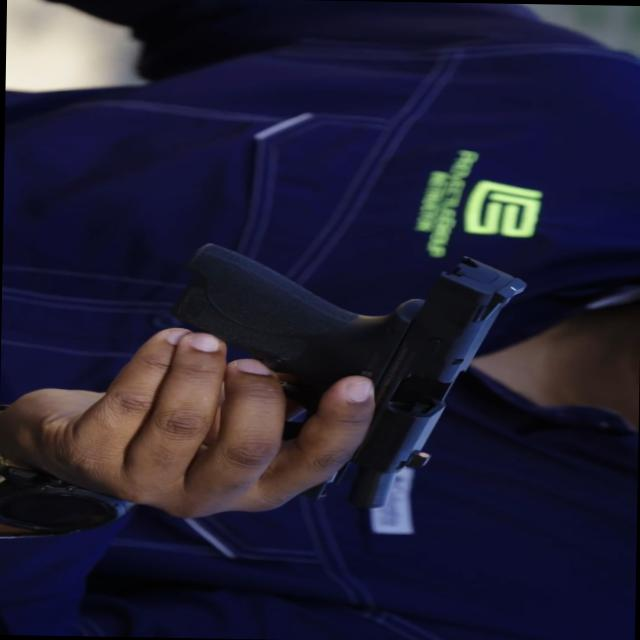handgun: (134, 238, 573, 516)
